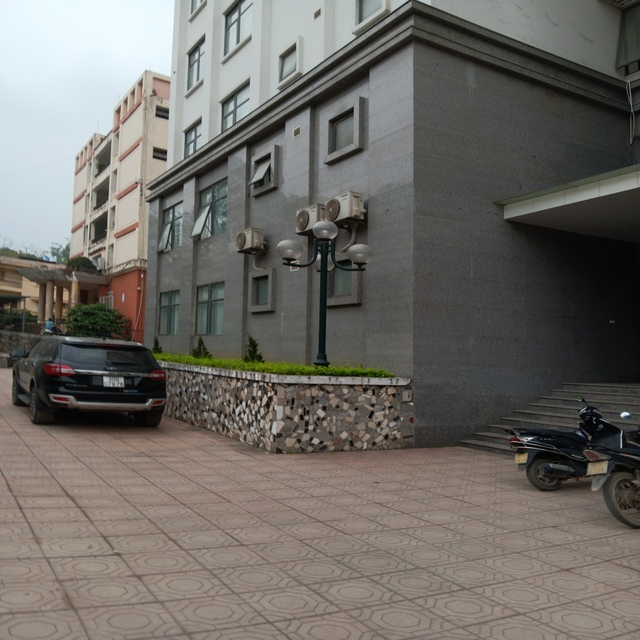cotden: (279, 219, 376, 369)
